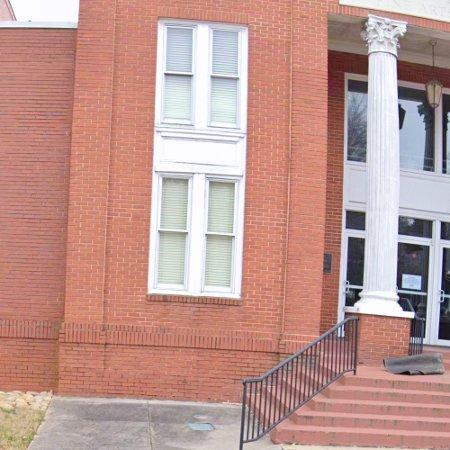stairs: (240, 318, 357, 450), (272, 371, 450, 450)
